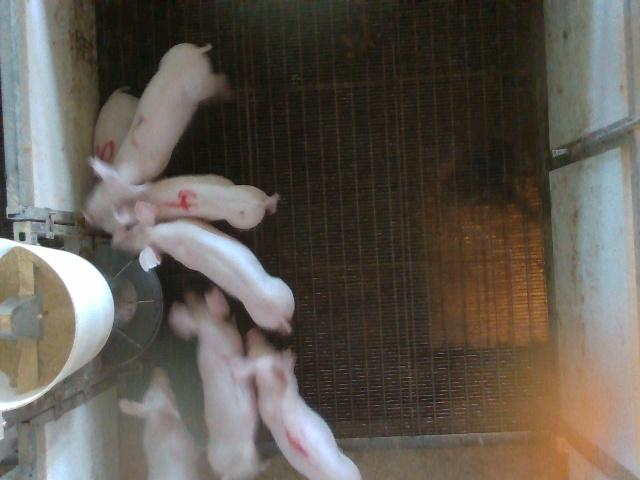pig-1: (234, 329, 361, 480)
pig-2: (85, 44, 229, 224)
pig-3: (169, 288, 260, 479)
pig-4: (145, 175, 277, 229)
pig-5: (95, 86, 139, 163)
